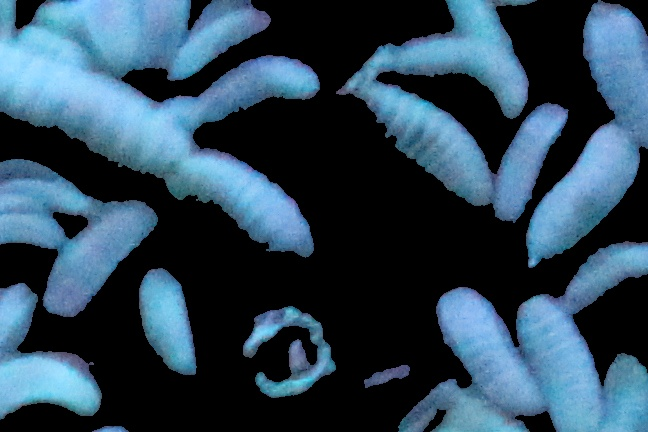larvae: (1, 44, 183, 180), (527, 123, 639, 263), (355, 87, 488, 203), (179, 149, 310, 260), (46, 193, 160, 319), (435, 286, 542, 414), (515, 294, 603, 432), (371, 41, 528, 115), (583, 1, 648, 148), (185, 56, 320, 123), (493, 103, 568, 220), (169, 1, 271, 79), (1, 349, 111, 421), (133, 265, 202, 377), (563, 243, 648, 309), (72, 1, 148, 69), (601, 346, 648, 432), (18, 20, 89, 70), (1, 279, 45, 354), (1, 168, 81, 208), (445, 1, 507, 48), (1, 211, 65, 249)
